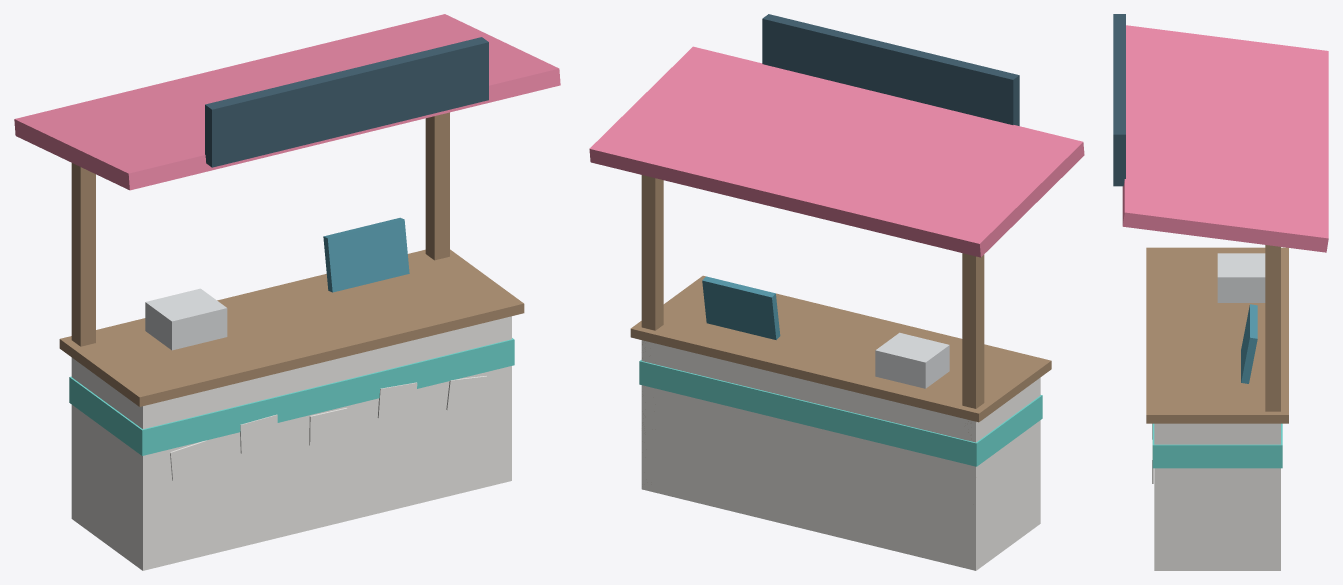
Rendered from PhotoKiosk.fbx.
The picture shows the model from 3 angles, left to right: view 1: azimuth 30°, elevation 25°; view 2: azimuth 150°, elevation 25°; view 3: azimuth 270°, elevation 25°; orthographic projection. The views are drawn at different scales.
Parts seen in each view (by area): view 1: PhotoKiosk; view 2: PhotoKiosk; view 3: PhotoKiosk.
Part boxes in pixels (<box>): PhotoKiosk: <box>14,14,560,570</box>; PhotoKiosk: <box>589,14,1084,570</box>; PhotoKiosk: <box>1113,14,1328,570</box>.
Size of the model in its own units: 2.8 by 2.9 by 1.36.
